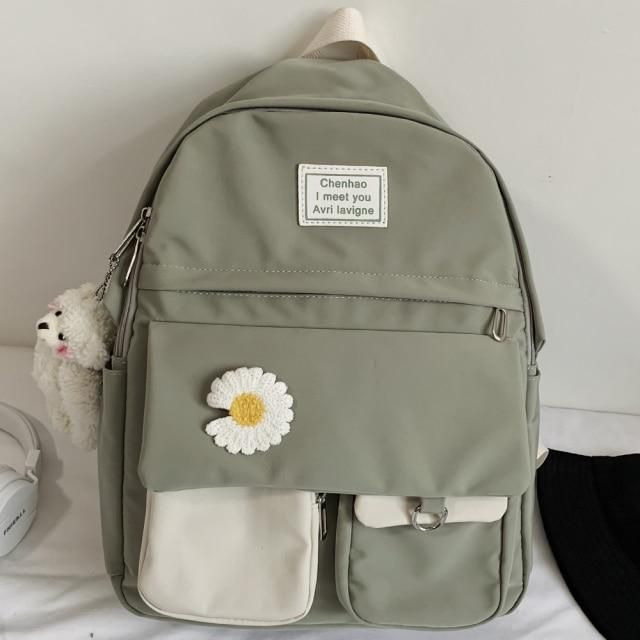nylon: (95, 7, 546, 630)
